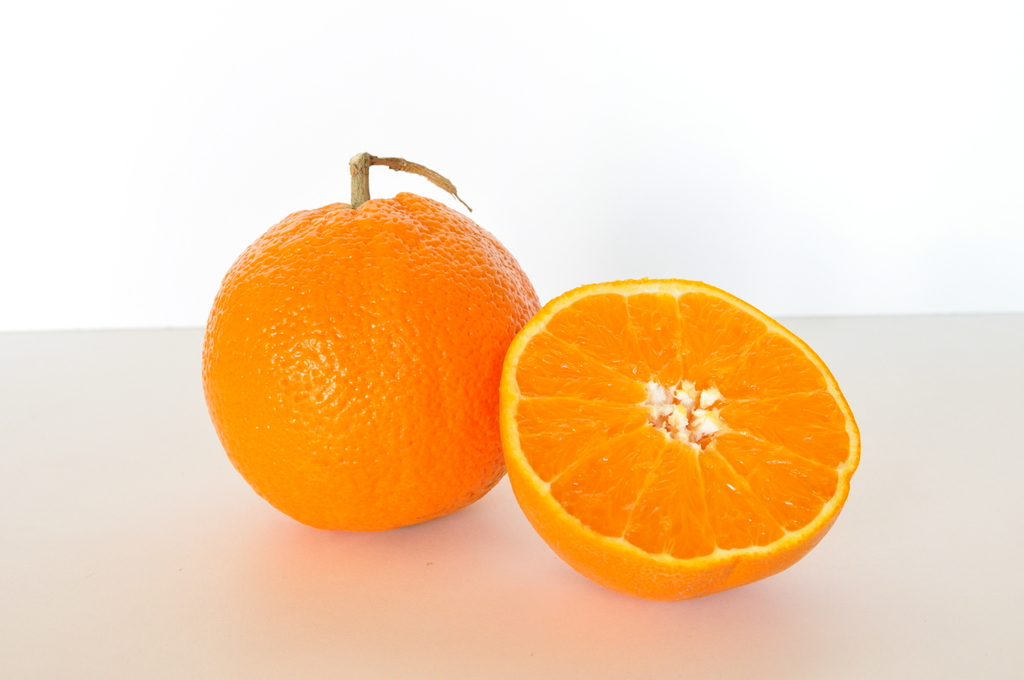Ripe: (198, 168, 541, 537), (502, 279, 852, 603)
